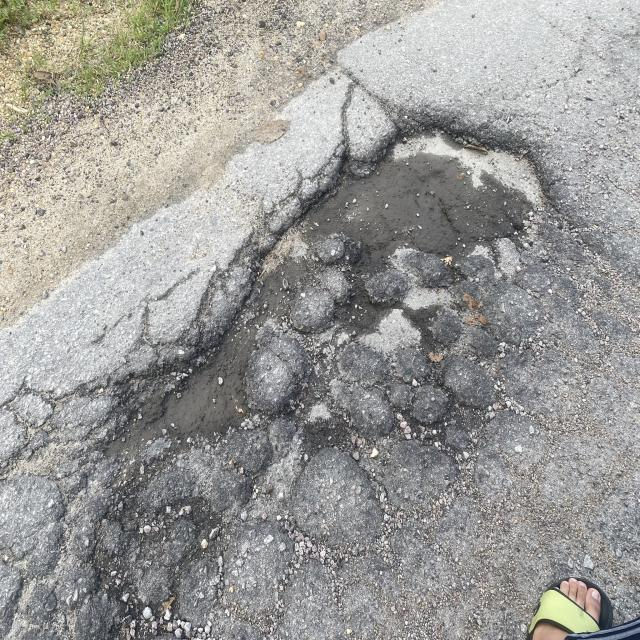Pothole: (26, 85, 590, 472)
